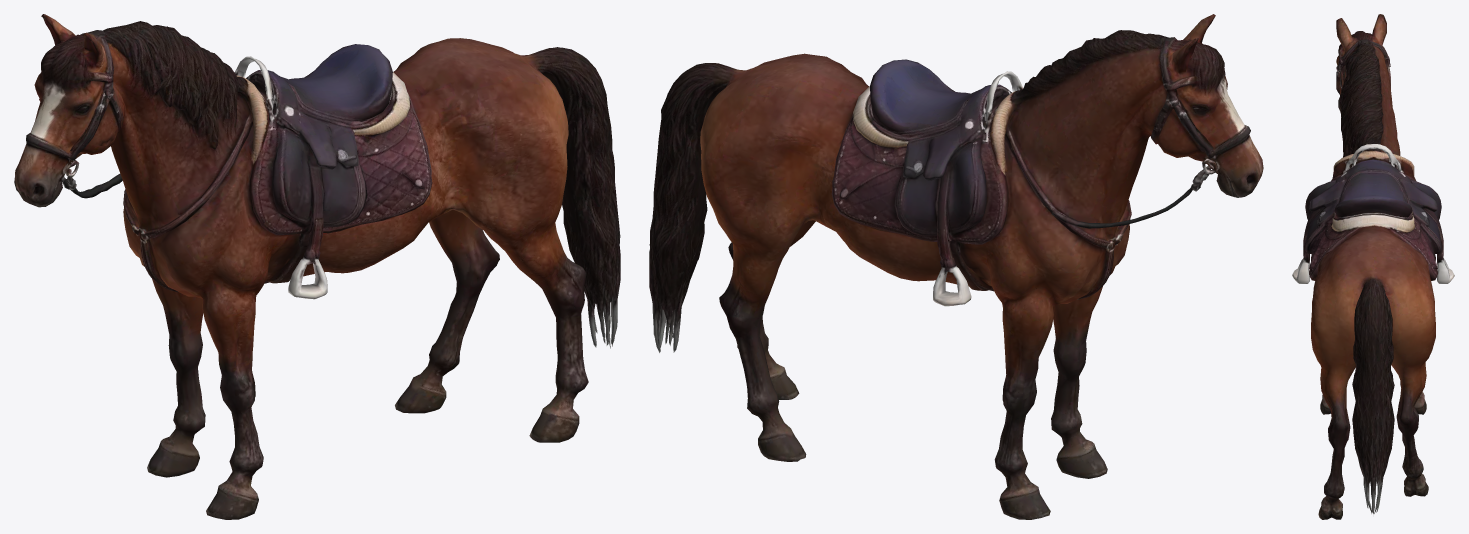
The model's file is horse.glb.
The picture shows the model from 3 angles, left to right: view 1: azimuth 30°, elevation 25°; view 2: azimuth 150°, elevation 25°; view 3: azimuth 270°, elevation 25°; orthographic projection. The views are drawn at different scales.
Parts seen in each view (by area): view 1: tripo_node_34b2823d-ece7-4018-befb-2f3666f63581; view 2: tripo_node_34b2823d-ece7-4018-befb-2f3666f63581; view 3: tripo_node_34b2823d-ece7-4018-befb-2f3666f63581.
Boxes of the visible parts, left/top/right/bottom form: tripo_node_34b2823d-ece7-4018-befb-2f3666f63581: left=14, top=14, right=620, bottom=519; tripo_node_34b2823d-ece7-4018-befb-2f3666f63581: left=649, top=14, right=1263, bottom=519; tripo_node_34b2823d-ece7-4018-befb-2f3666f63581: left=1292, top=14, right=1454, bottom=519.
Size of the model in its own units: 0.9792 by 0.7761 by 0.3315.
Materials: 1 (1 with a texture image).
